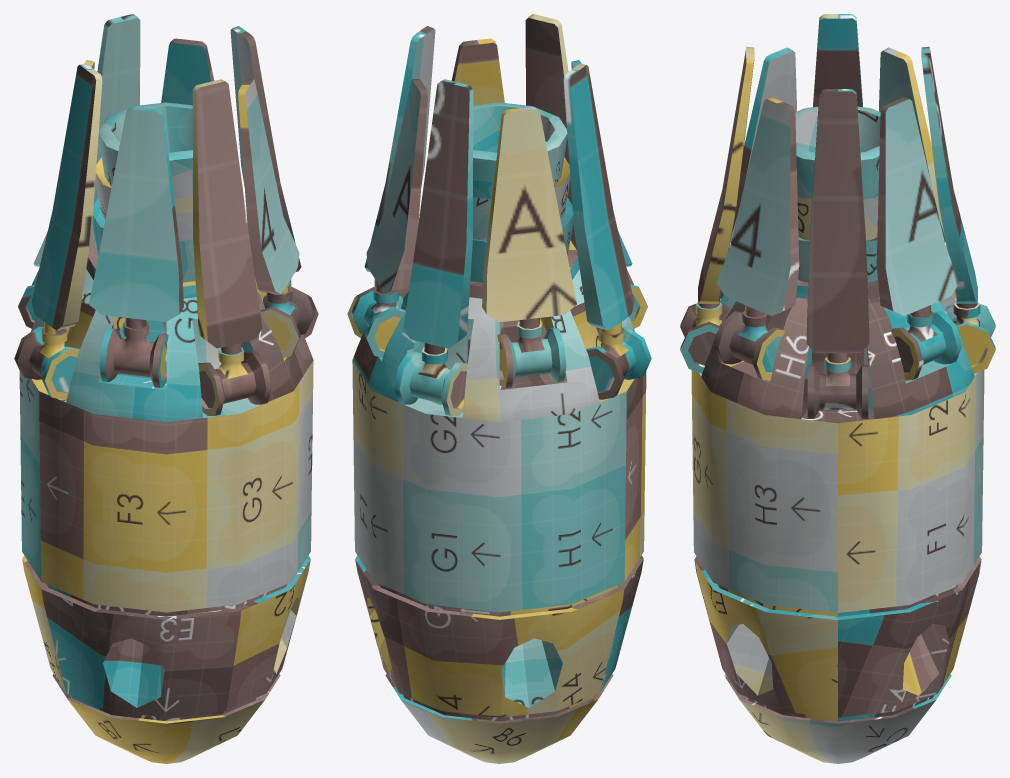
Rendered from DropPod.fbx.
3 renders of one model, left to right at view 1: azimuth 30°, elevation 25°; view 2: azimuth 150°, elevation 25°; view 3: azimuth 270°, elevation 25°, orthographic.
Parts seen in each view (by area): view 1: Cylinder, Wing, Wing.001, Wing.007, Wing.002, Wing.005, Wing.003, Wing.004, Wing.006; view 2: Cylinder, Wing.006, Wing.005, Wing.007, Wing.004, Wing.001, Wing.003, Wing.002, Wing; view 3: Cylinder, Wing.003, Wing.004, Wing.002, Wing.001, Wing.005, Wing.007, Wing, Wing.006.
Part boxes in pixels (x1,y1,x2,y2): Cylinder: (19,102,313,763); Wing: (89,106,183,387); Wing.001: (192,79,271,415); Wing.007: (14,64,102,399); Wing.002: (238,78,314,357); Wing.005: (89,14,140,249); Wing.003: (230,26,318,338); Wing.004: (161,38,214,105); Wing.006: (18,60,94,328); Cylinder: (352,102,646,763); Wing.006: (482,106,576,387); Wing.005: (394,79,473,415); Wing.007: (563,64,651,399); Wing.004: (351,78,427,357); Wing.001: (525,14,576,249); Wing.003: (347,26,435,338); Wing.002: (451,38,504,105); Wing: (571,60,647,328); Cylinder: (691,106,984,763); Wing.003: (806,89,869,418); Wing.004: (876,97,961,380); Wing.002: (714,97,799,380); Wing.001: (680,46,754,373); Wing.005: (921,46,995,373); Wing.007: (813,14,862,107); Wing: (720,47,796,298); Wing.006: (879,47,955,298).
Size of the model in its own units: 0.801 by 1.98 by 0.801.
Materials: 1 (1 with a texture image).
